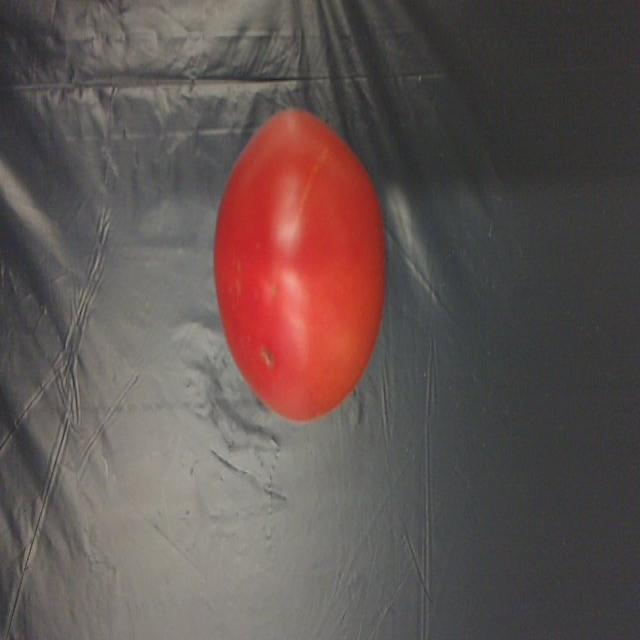kirmizi: (209, 106, 390, 428)
